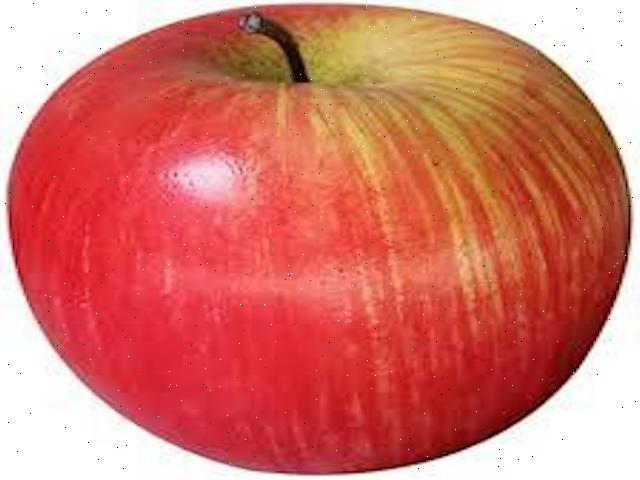apple: (5, 0, 636, 476)
